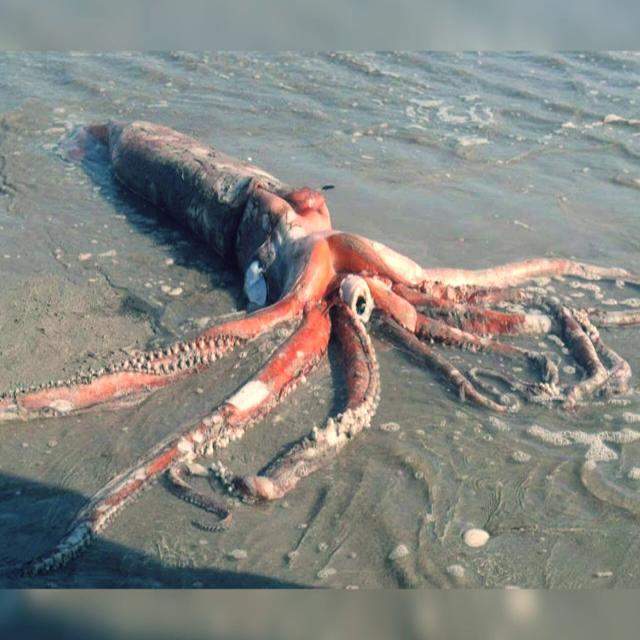squid: (108, 120, 461, 347)
